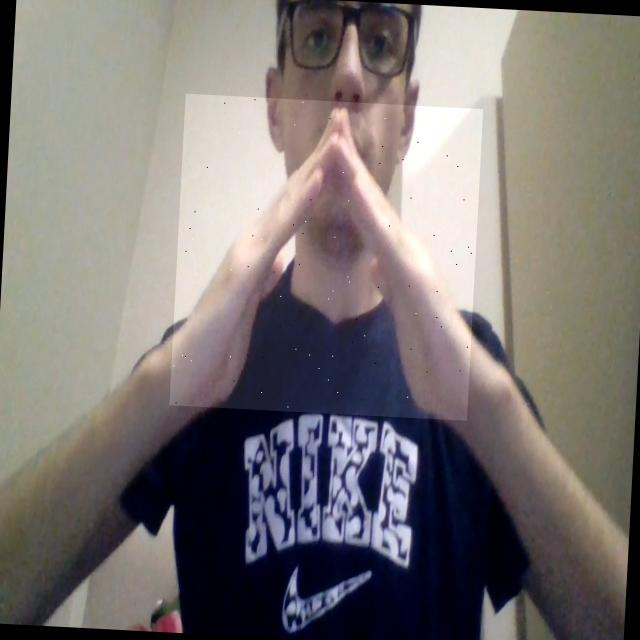house: (170, 94, 484, 421)
